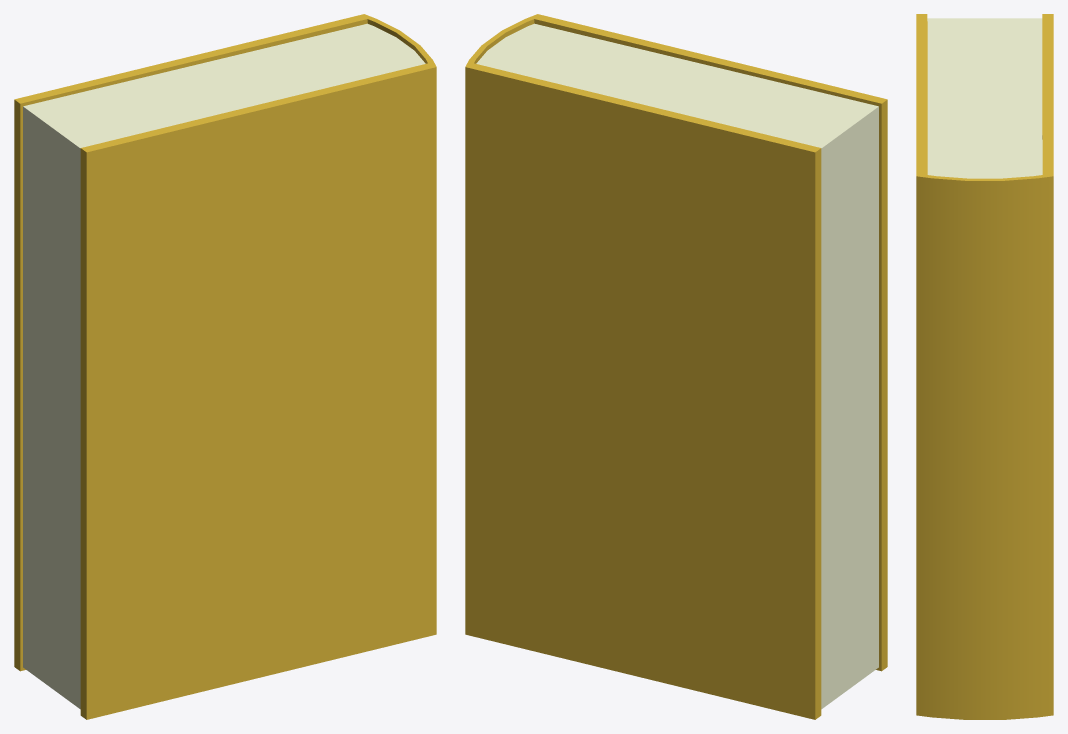
File: newbook11.fbx
3 renders of one model, left to right at view 1: azimuth 30°, elevation 25°; view 2: azimuth 150°, elevation 25°; view 3: azimuth 270°, elevation 25°, orthographic. The views are drawn at different scales.
Parts seen in each view (by area): view 1: Book11; view 2: Book11; view 3: Book11.
Boxes of the visible parts, left/top/right/bottom form: Book11: left=14, top=14, right=436, bottom=719; Book11: left=465, top=14, right=887, bottom=719; Book11: left=916, top=14, right=1053, bottom=719.
Bounding box in the file's own units: 13.75 × 20.71 × 4.79.
